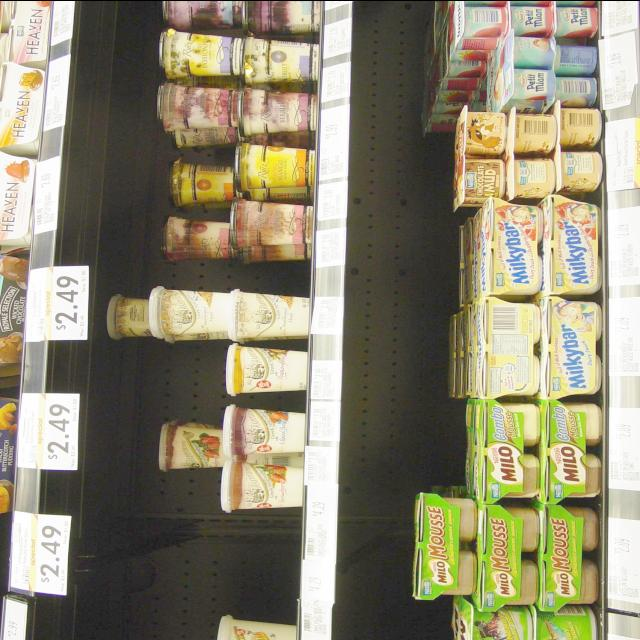empty_space: (75, 514, 293, 610), (106, 259, 302, 281)
